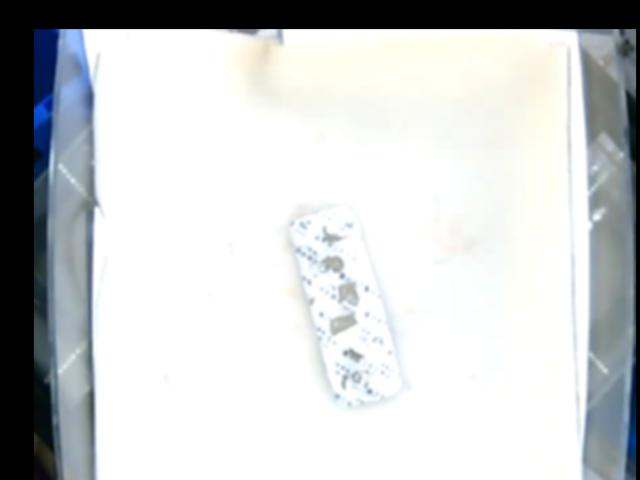Medicine: (287, 205, 400, 409)
